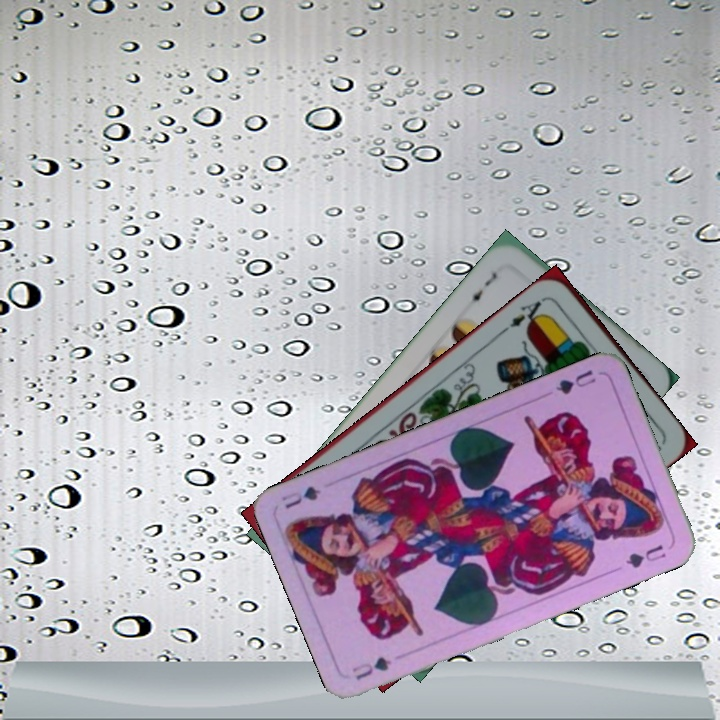E7: (463, 268, 500, 307)
EA: (499, 293, 549, 335)
GU: (551, 365, 599, 398), (348, 652, 394, 683)
